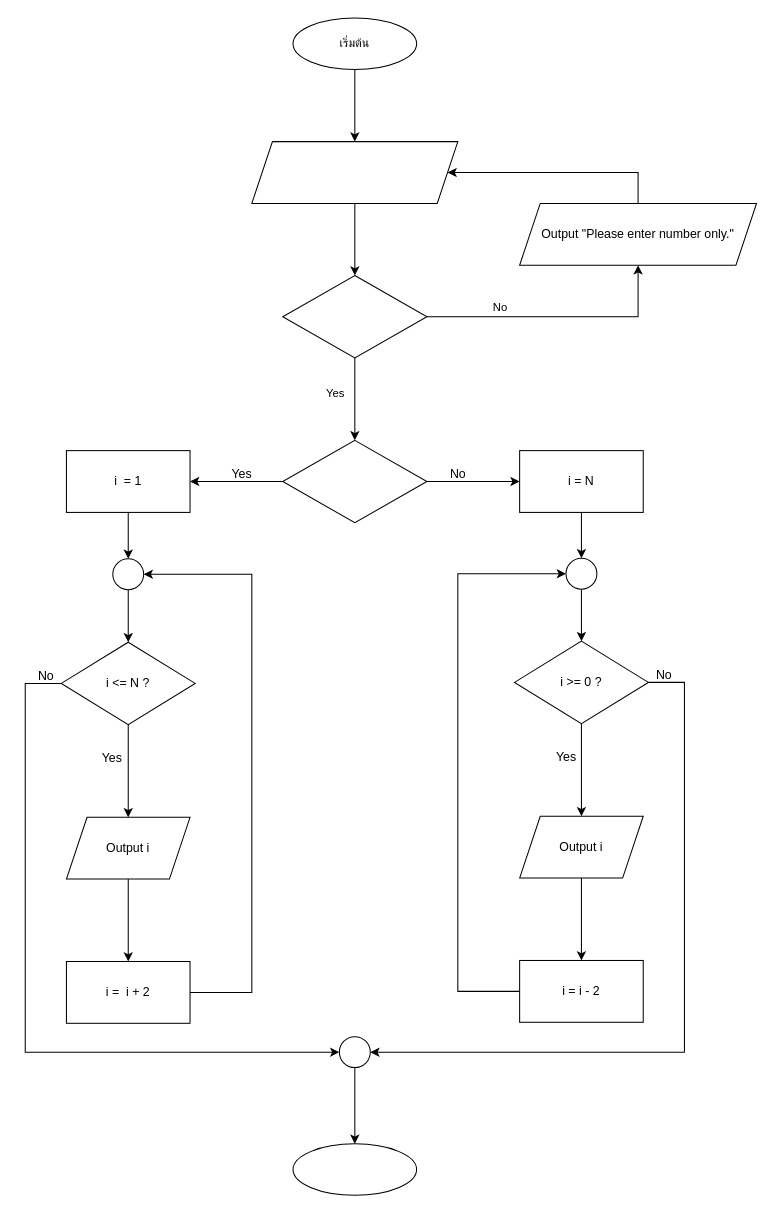
Some shapes in this 775 by 1213 pixel diagram are drawn without their labels. The shapes that lost their labels are listed below. From the top down, each one's centre as x and y in pixels, then its label:
At point (354, 172): "Input N".
At point (354, 316): "N เป็นตัวเลขหรือไม่".
At point (354, 481): "N เป็นเลขคี่หรือไม่".
At point (354, 1169): "จบการทำงาน".
